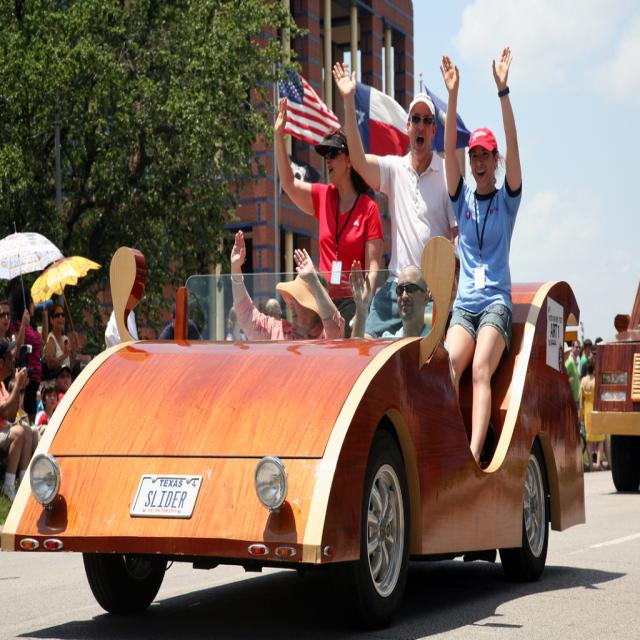car: (32, 255, 555, 612)
